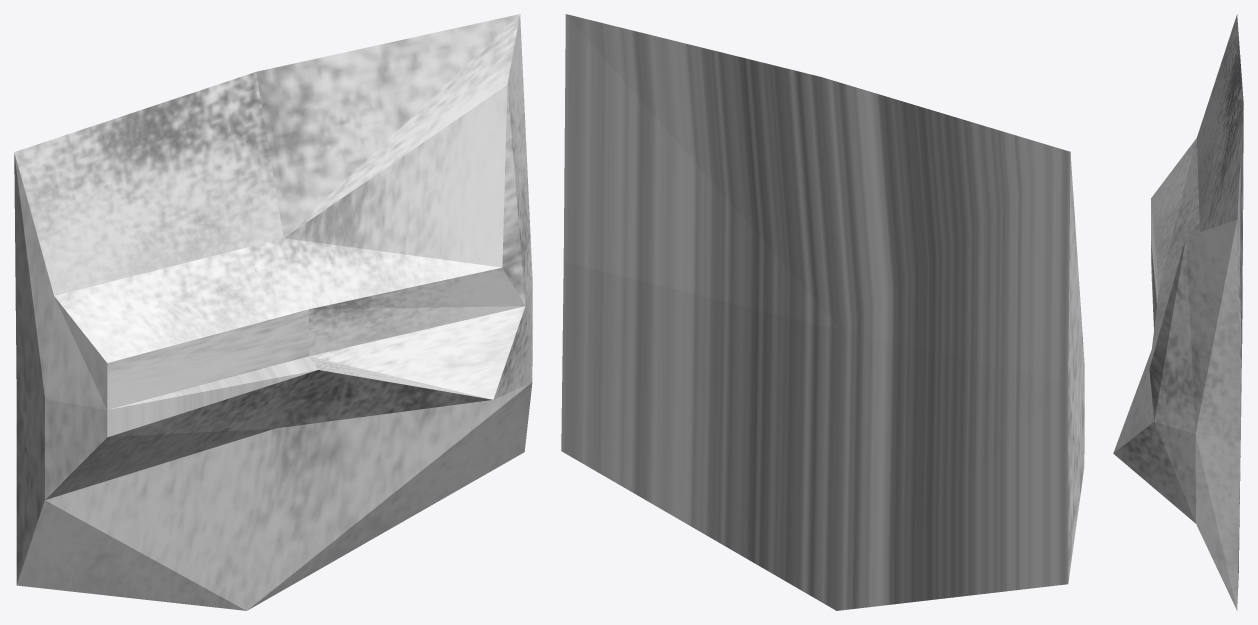
Rendered from snowmound6x6_wtf.obj.
The picture shows the model from 3 angles, left to right: view 1: azimuth 30°, elevation 25°; view 2: azimuth 150°, elevation 25°; view 3: azimuth 270°, elevation 25°; orthographic projection. The views are drawn at different scales.
Parts seen in each view (by area): view 1: group1; view 2: group1; view 3: group1.
Part boxes in pixels (x1,y1,x2,y2): group1: (14, 14, 532, 610); group1: (561, 14, 1084, 610); group1: (1113, 14, 1243, 610).
Size of the model in its own units: 660 by 660 by 165.
